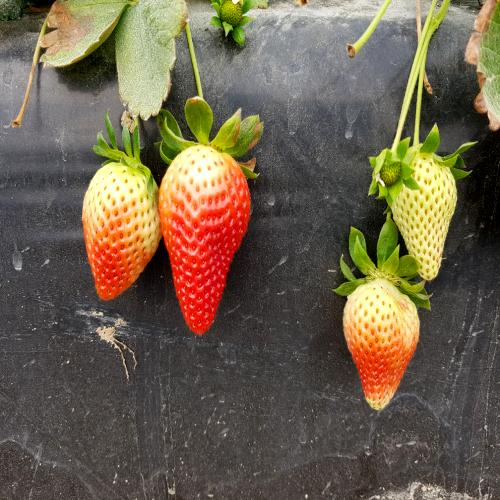partially-ripe: (157, 135, 252, 349), (74, 144, 164, 311), (344, 281, 424, 418)
